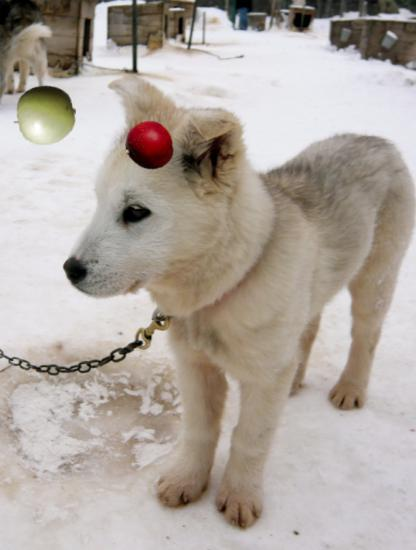Apple: (13, 84, 77, 148)
Nectarine: (124, 121, 175, 172)
